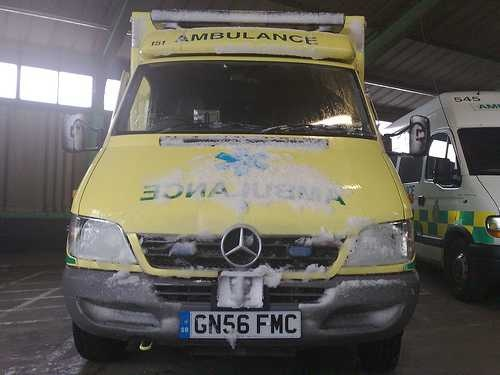Ambulance: (67, 7, 429, 375)
